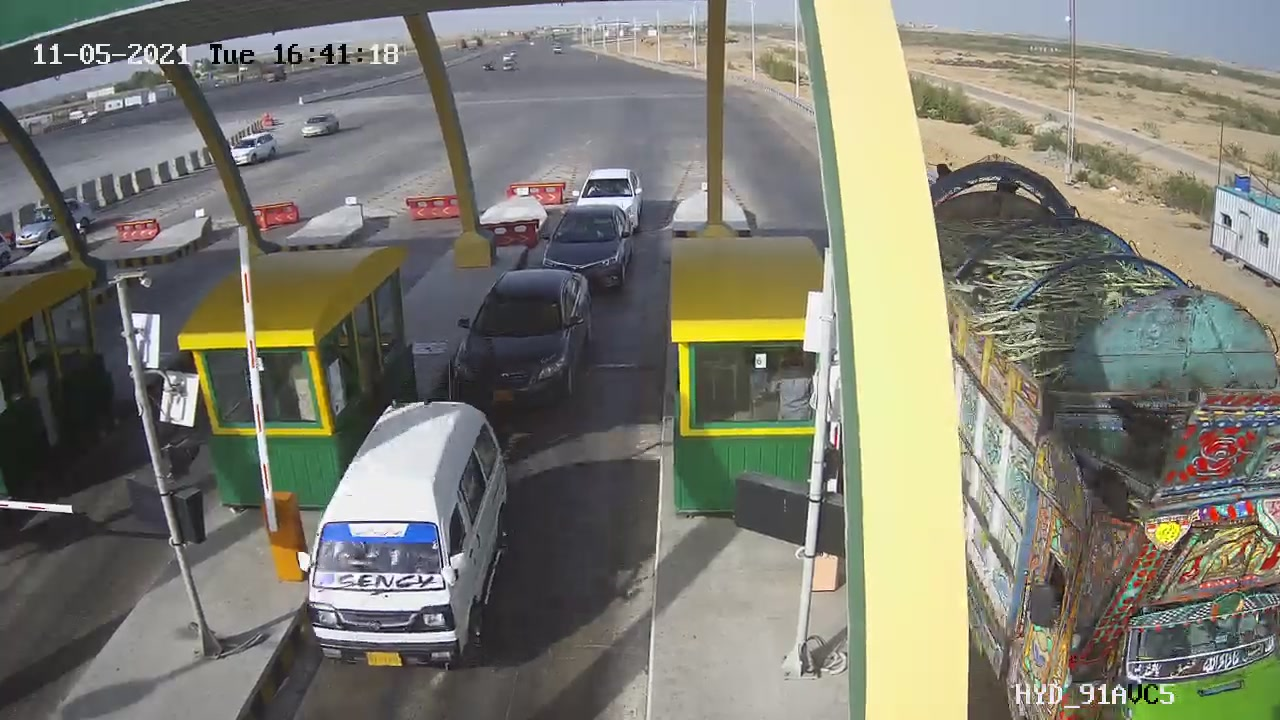F1: (436, 254, 607, 420), (525, 199, 651, 303)
